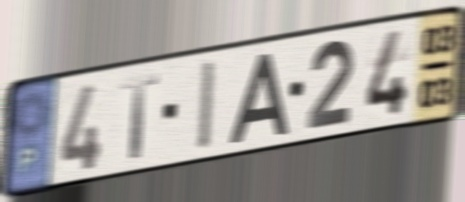2: (304, 36, 358, 135)
4: (56, 78, 104, 174), (363, 26, 410, 119)
A: (226, 49, 291, 146)
I: (197, 56, 218, 154)
T: (119, 71, 162, 162)
